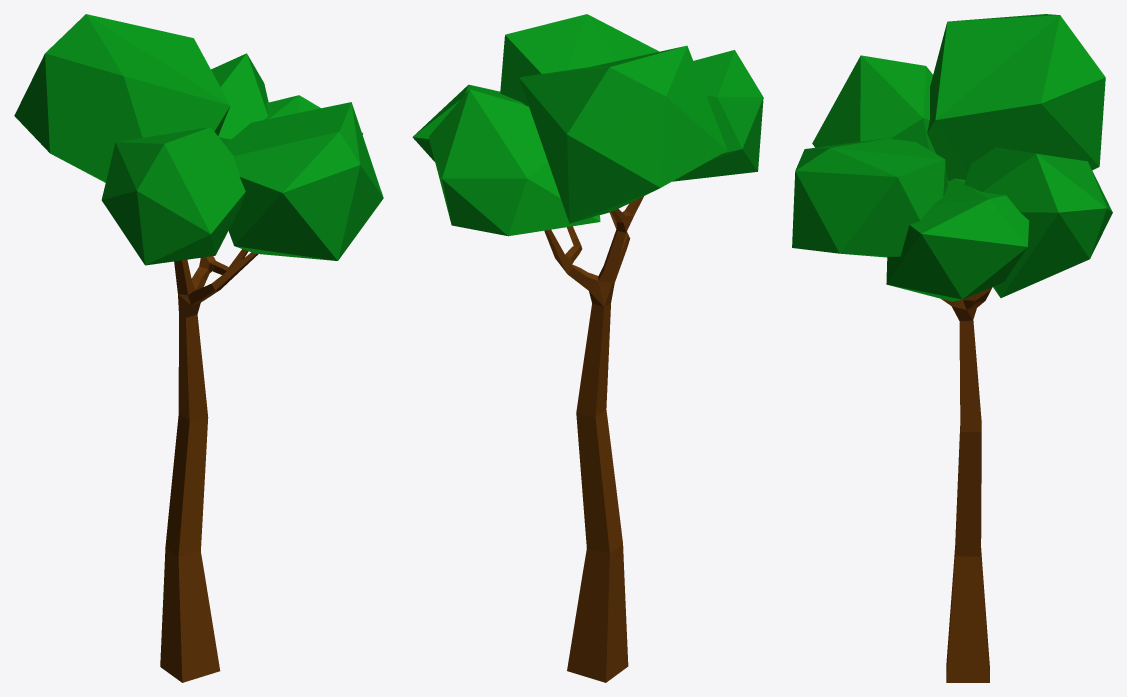
The model's file is Tree_3.fbx.
3 renders of one model, left to right at view 1: azimuth 30°, elevation 25°; view 2: azimuth 150°, elevation 25°; view 3: azimuth 270°, elevation 25°, orthographic. The views are drawn at different scales.
Visible parts, largest first — view 1: Icosphere.001, Icosphere.002, Cube, Icosphere, Icosphere.004, Icosphere.003; view 2: Icosphere.001, Cube, Icosphere.004, Icosphere.002, Icosphere, Icosphere.003; view 3: Icosphere.001, Icosphere.002, Icosphere.004, Icosphere.003, Cube, Icosphere.
Part boxes in pixels (box(x1,y1,x2,y2)): Icosphere.001: box(14, 14, 230, 182); Icosphere.002: box(225, 102, 383, 260); Cube: box(160, 249, 258, 682); Icosphere: box(101, 127, 245, 265); Icosphere.004: box(211, 53, 268, 144); Icosphere.003: box(264, 95, 363, 134); Icosphere.001: box(519, 45, 727, 223); Cube: box(544, 196, 643, 682); Icosphere.004: box(428, 89, 600, 236); Icosphere.002: box(500, 14, 658, 106); Icosphere: box(672, 50, 763, 181); Icosphere.003: box(412, 84, 525, 162); Icosphere.001: box(927, 14, 1105, 181); Icosphere.002: box(792, 138, 947, 257); Icosphere.004: box(964, 147, 1112, 297); Icosphere.003: box(886, 178, 1028, 301); Cube: box(941, 287, 992, 682); Icosphere: box(812, 55, 948, 181).
Size of the model in its own units: 452 by 967 by 445.
